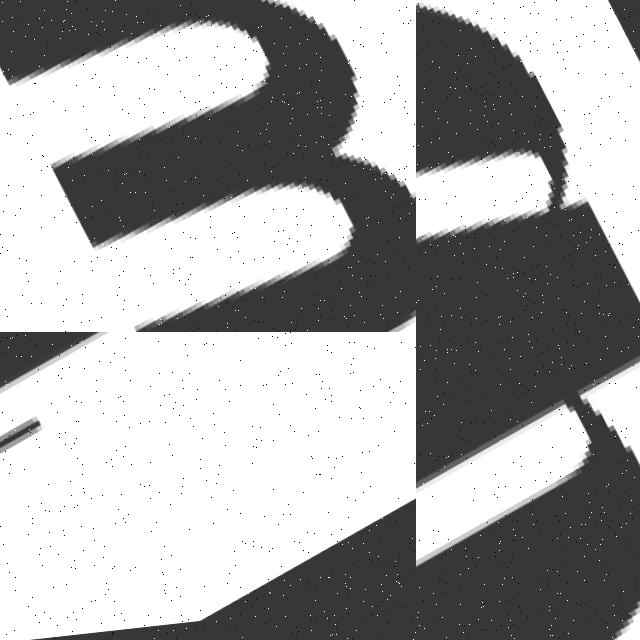B: (416, 332, 640, 640)
G: (416, 0, 640, 332)
M: (0, 0, 416, 332)
T: (0, 332, 392, 525)
